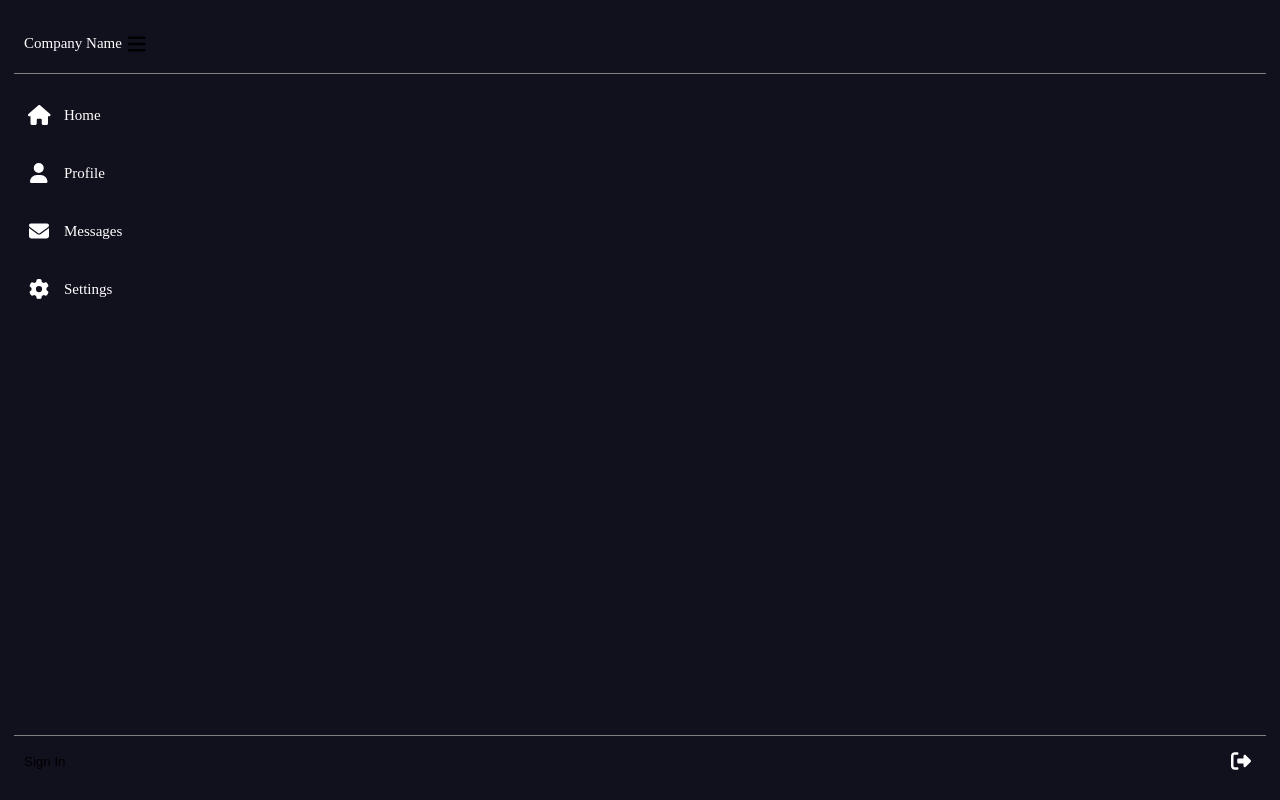
Scenario: Navbar › should toggle expanded state on button click
What coordinates should you click on to do the following:
click the button named "toggle navigation"
I would click on:
 (137, 44)
Its box is [122,28,152,58].
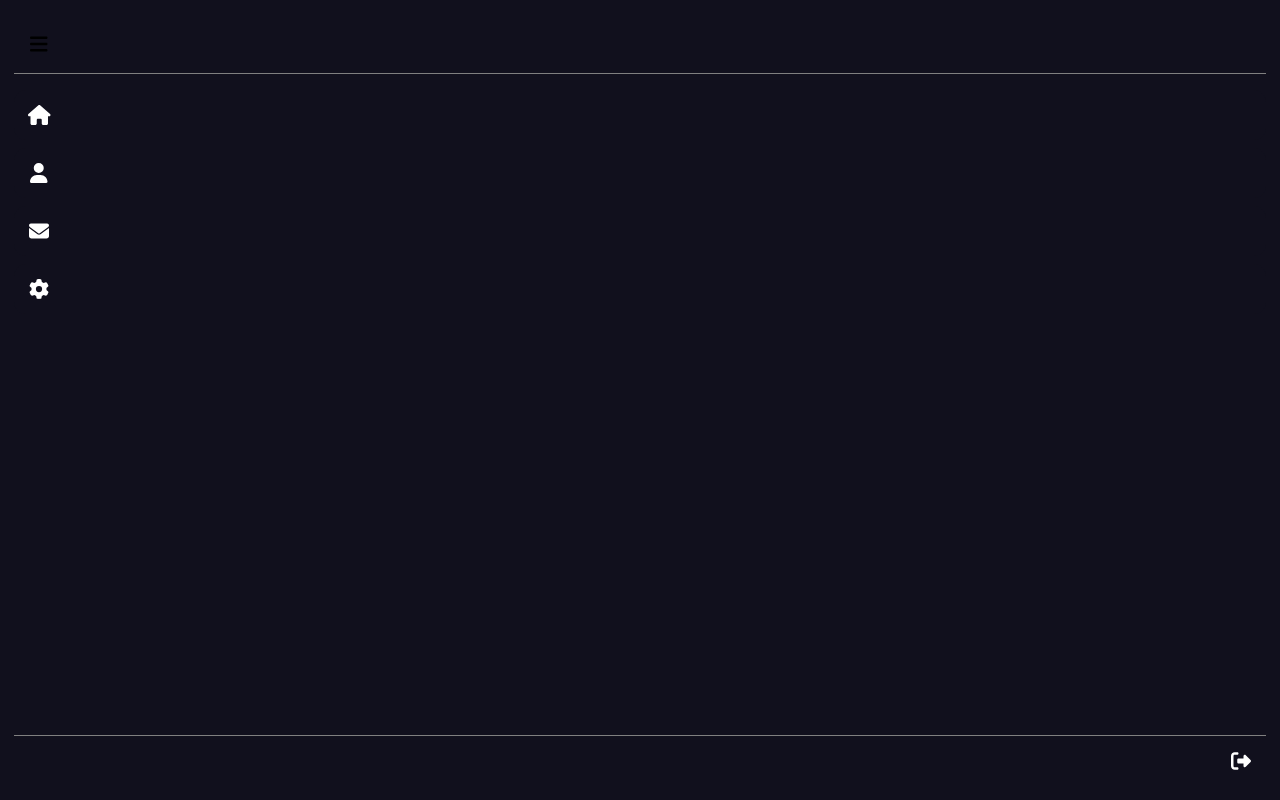
expect the button named "toggle navigation" is collapsed: met
What coordinates should you click on to do the following:
click the button named "toggle navigation"
I would click on:
 (39, 44)
Its box is [24,28,54,58].
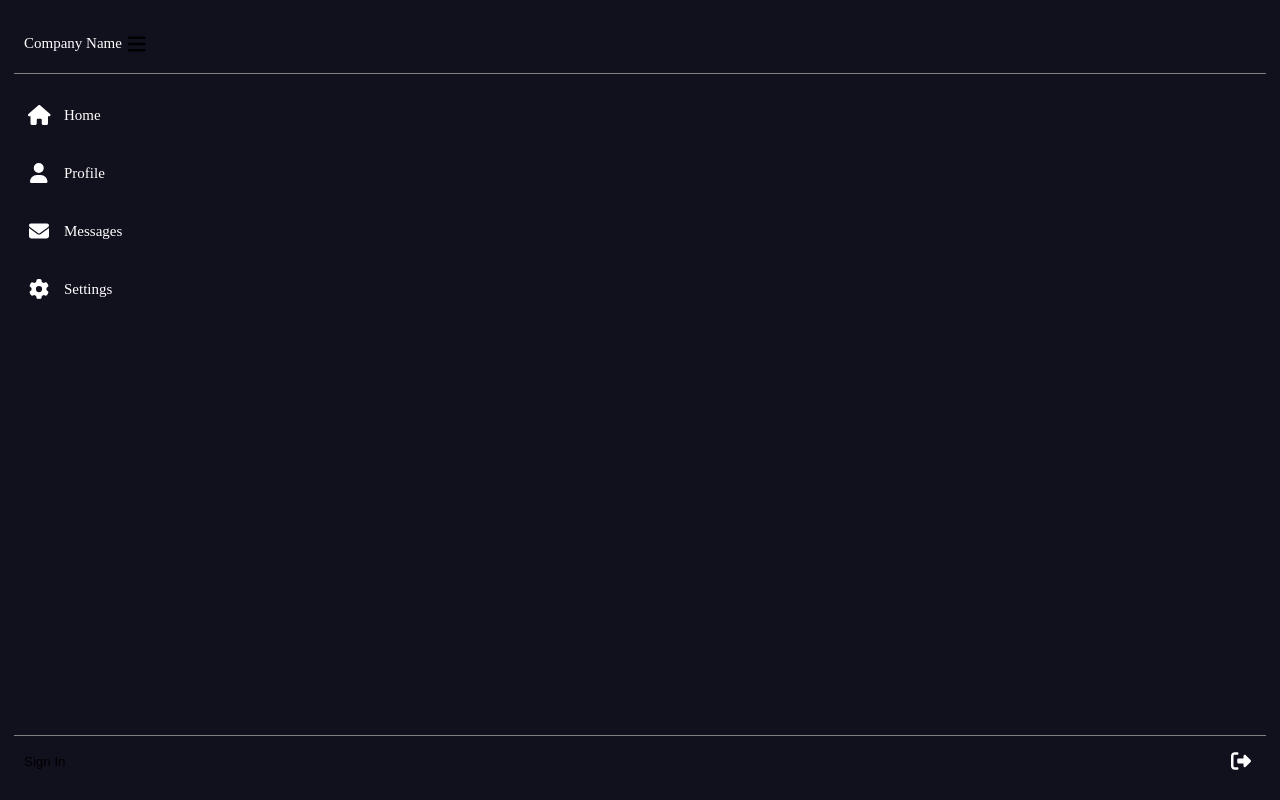
expect the button named "toggle navigation" is expanded: met, box [122,28,152,58]
